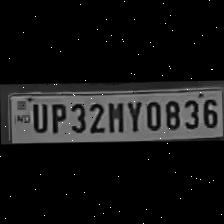0: (142, 98, 162, 132)
2: (85, 99, 105, 134)
3: (66, 99, 86, 134), (180, 96, 200, 130)
6: (198, 94, 218, 128)
8: (162, 96, 180, 132)
M: (104, 99, 125, 134)
P: (47, 99, 67, 133)
U: (27, 100, 47, 133)
Y: (122, 98, 142, 133)
